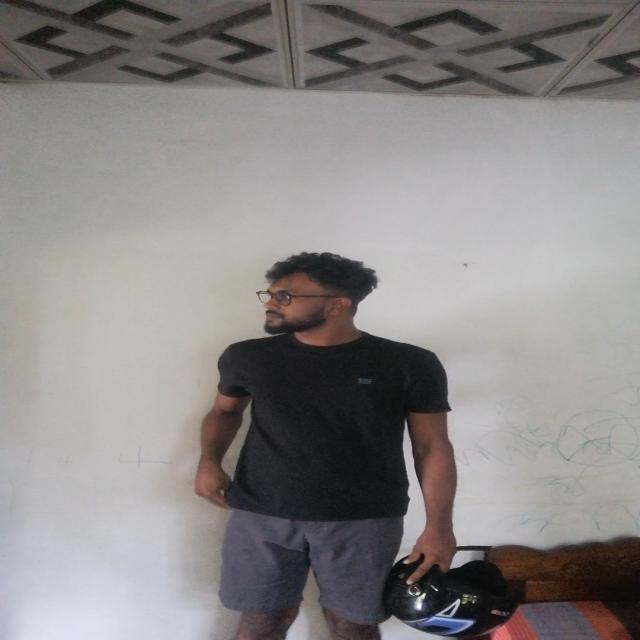Person: (194, 248, 445, 630)
